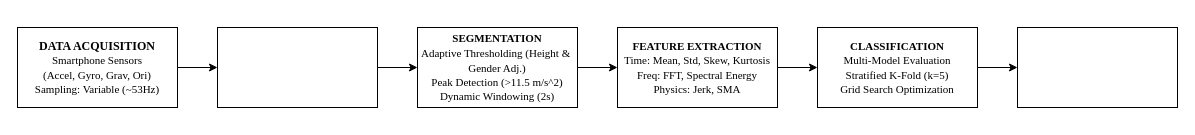
The diagram is 1195 pixels wide and 135 high, and some of its shapes have lost their labels. The shapes that lost their labels are listed below. From the top down, each one's centre as x and y in pixels, then its label:
the point at 297,67: PREPROCESSING Linear Interpolation (50Hz) Gravity Removal Magnitude Calc Amag
the point at 1097,67: OUTPUT Shot Class Prediction (The Paint, The Free Throw Line, The 3-Point Zone)
